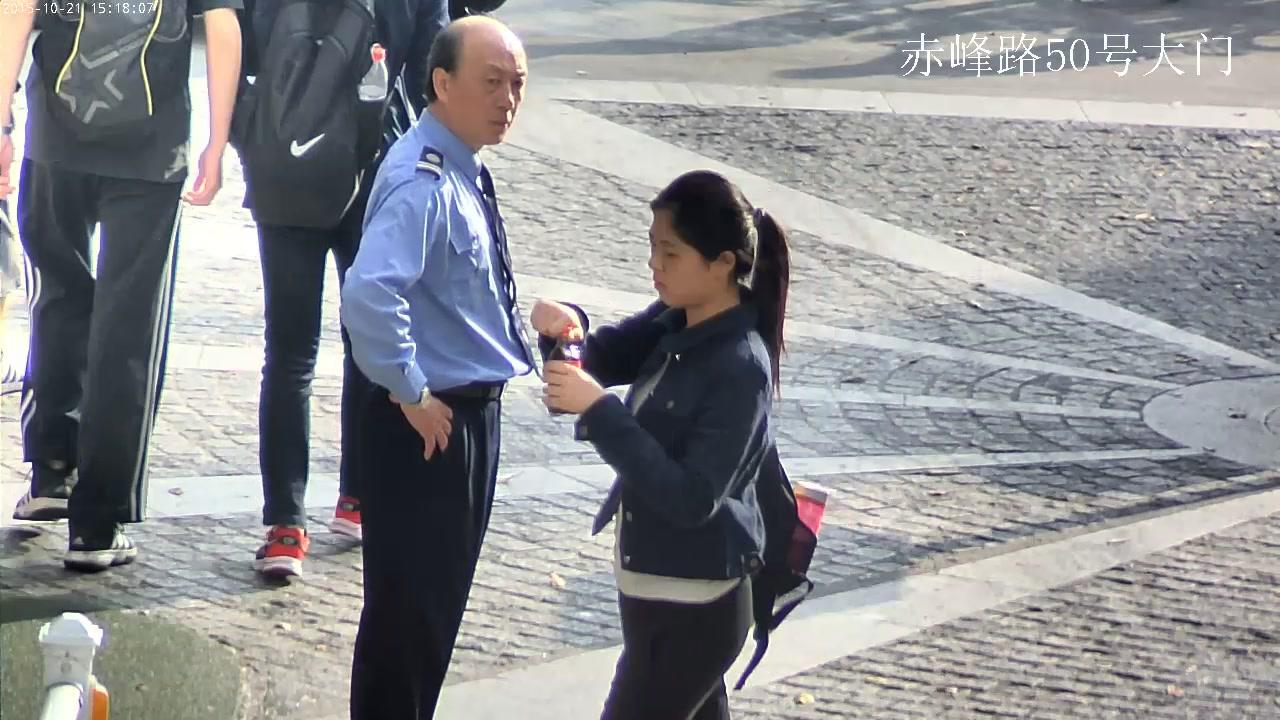face: (449, 32, 526, 144), (648, 210, 717, 306)
